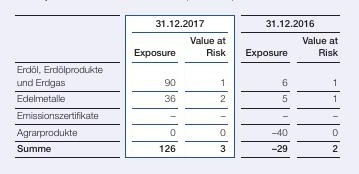table: (0, 0, 359, 174)
